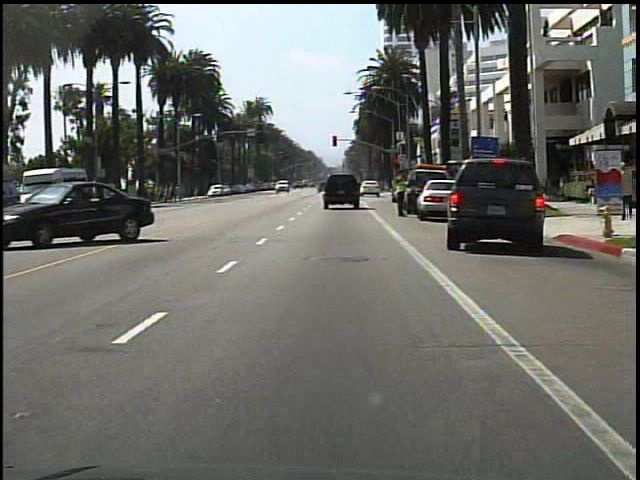person: (619, 160, 636, 225), (391, 169, 410, 219)
